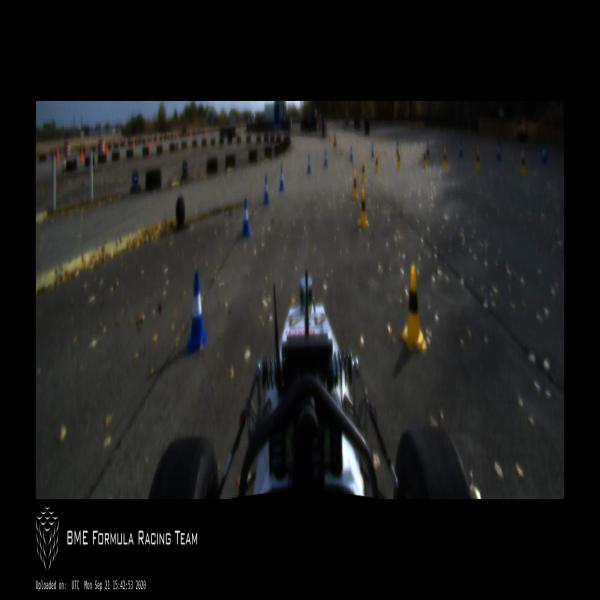blue_cone: (186, 270, 207, 356), (240, 199, 251, 235), (262, 178, 270, 204), (541, 140, 547, 164), (279, 167, 284, 188), (496, 139, 501, 160), (307, 154, 311, 174), (349, 145, 353, 162), (426, 141, 430, 158), (324, 150, 327, 167), (459, 142, 462, 158), (371, 143, 374, 158), (396, 142, 399, 155)
yellow_cone: (401, 265, 425, 354), (358, 187, 368, 228), (520, 153, 527, 178), (352, 170, 358, 199), (475, 148, 481, 172), (360, 158, 366, 180), (442, 147, 448, 167), (374, 154, 379, 176), (397, 151, 402, 171), (422, 148, 427, 168)
